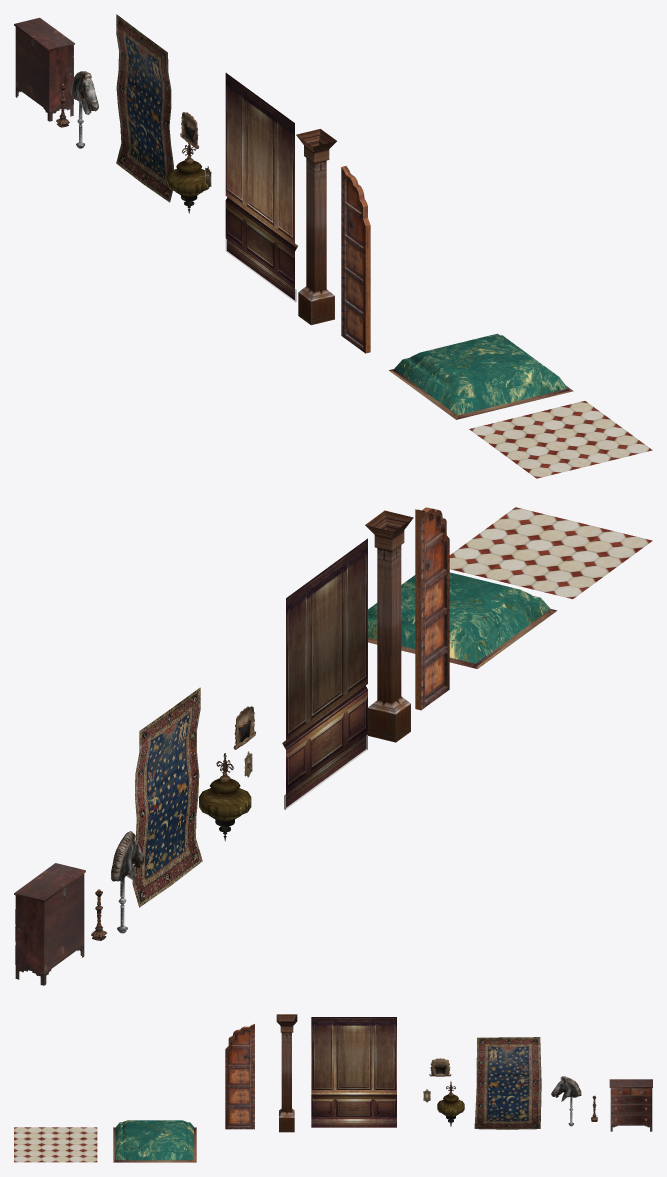
The model's file is AssetsSalaTeste.fbx.
3 views of the same model, one above another, from view 1: azimuth 30°, elevation 25°; view 2: azimuth 150°, elevation 25°; view 3: azimuth 270°, elevation 25° (orthographic). The views are drawn at different scales.
Parts seen in each view (by area): view 1: Parede, Teto, Tapete, Chao, Porta, Pilastra, Comoda, Lustre, Alavanca; view 2: Parede, Tapete, Chao, Teto, Comoda, Pilastra, Porta, Lustre, Alavanca, Buraco_Alavanca; view 3: Parede, Tapete, Teto, Chao, Porta, Comoda, Pilastra, Lustre, Alavanca, Buraco_Alavanca.
Boxes of the visible parts, left/top/right/bottom form: Parede: left=225, top=73, right=297, bottom=302; Teto: left=389, top=333, right=573, bottom=419; Tapete: left=116, top=14, right=173, bottom=202; Chao: left=469, top=401, right=652, bottom=478; Porta: left=341, top=166, right=370, bottom=353; Pilastra: left=296, top=129, right=336, bottom=325; Comoda: left=14, top=17, right=74, bottom=121; Lustre: left=167, top=143, right=209, bottom=213; Alavanca: left=70, top=71, right=98, bottom=148; Parede: left=282, top=538, right=367, bottom=809; Tapete: left=132, top=687, right=202, bottom=907; Chao: left=449, top=507, right=652, bottom=599; Teto: left=368, top=572, right=557, bottom=668; Comoda: left=14, top=863, right=85, bottom=985; Pilastra: left=365, top=510, right=413, bottom=742; Porta: left=415, top=507, right=449, bottom=710; Lustre: left=199, top=753, right=251, bottom=841; Alavanca: left=111, top=831, right=144, bottom=933; Buraco_Alavanca: left=233, top=706, right=255, bottom=749; Parede: left=311, top=1017, right=396, bottom=1127; Tapete: left=474, top=1037, right=541, bottom=1129; Teto: left=113, top=1120, right=196, bottom=1162; Chao: left=14, top=1127, right=97, bottom=1162; Porta: left=225, top=1024, right=254, bottom=1129; Comoda: left=609, top=1079, right=652, bottom=1131; Pilastra: left=276, top=1014, right=297, bottom=1132; Lustre: left=437, top=1081, right=464, bottom=1126; Alavanca: left=551, top=1076, right=581, bottom=1126; Buraco_Alavanca: left=429, top=1058, right=451, bottom=1076.
Size of the model in its own units: 273 by 362 by 1889.
